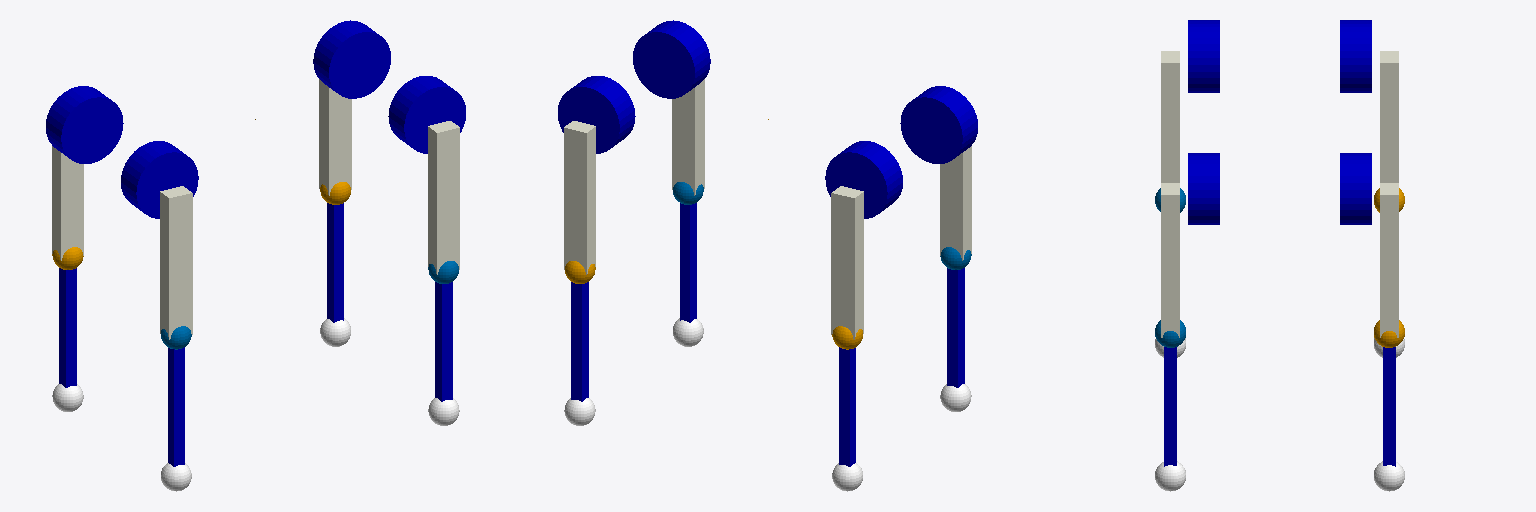
--- Render facts (derived) ---
3 views of the same robot in one strip: view 1: azimuth 30°, elevation 25°; view 2: azimuth 150°, elevation 25°; view 3: azimuth 270°, elevation 25° (orthographic).
Model wr2 with 19 links and 18 joints (12 revolute, 6 fixed), rooted at base, posed every joint at zero.
Links seen in each view (by area): view 1: RR_thigh, FR_thigh, FL_hip, RL_hip, FR_hip, RR_hip, FL_thigh, RL_thigh, RL_calf, FR_calf, FL_calf, RR_calf (+4 smaller); view 2: RL_thigh, FL_thigh, FR_hip, RR_hip, FL_hip, RL_hip, FR_thigh, RR_thigh, RR_calf, FL_calf, FR_calf, RL_calf (+4 smaller); view 3: FR_thigh, FL_thigh, RR_thigh, RL_thigh, RR_hip, RL_hip, FR_hip, FL_hip, FR_calf, FL_calf, FR_foot, FL_foot.
Boxes of the visible links, left/top/right/bottom form: RR_thigh: left=160, top=186, right=192, bottom=349; FR_thigh: left=428, top=121, right=459, bottom=283; FL_hip: left=313, top=20, right=390, bottom=98; RL_hip: left=46, top=86, right=123, bottom=163; FR_hip: left=388, top=76, right=465, bottom=153; RR_hip: left=121, top=141, right=198, bottom=218; FL_thigh: left=319, top=79, right=351, bottom=204; RL_thigh: left=52, top=146, right=83, bottom=269; RL_calf: left=59, top=268, right=76, bottom=387; FR_calf: left=435, top=282, right=452, bottom=401; FL_calf: left=327, top=203, right=343, bottom=322; RR_calf: left=168, top=347, right=184, bottom=466; RL_thigh: left=831, top=186, right=863, bottom=349; FL_thigh: left=564, top=121, right=595, bottom=283; FR_hip: left=633, top=20, right=710, bottom=98; RR_hip: left=900, top=86, right=977, bottom=163; FL_hip: left=558, top=76, right=635, bottom=153; RL_hip: left=825, top=141, right=902, bottom=218; FR_thigh: left=672, top=79, right=704, bottom=204; RR_thigh: left=940, top=146, right=971, bottom=269; RR_calf: left=947, top=268, right=964, bottom=387; FL_calf: left=571, top=282, right=588, bottom=401; FR_calf: left=680, top=203, right=696, bottom=322; RL_calf: left=839, top=347, right=855, bottom=466; FR_thigh: left=1155, top=183, right=1185, bottom=347; FL_thigh: left=1374, top=183, right=1404, bottom=347; RR_thigh: left=1155, top=51, right=1185, bottom=212; RL_thigh: left=1374, top=51, right=1404, bottom=212; RR_hip: left=1188, top=20, right=1219, bottom=92; RL_hip: left=1340, top=20, right=1371, bottom=92; FR_hip: left=1188, top=153, right=1219, bottom=224; FL_hip: left=1340, top=153, right=1371, bottom=224; FR_calf: left=1164, top=347, right=1176, bottom=466; FL_calf: left=1383, top=347, right=1395, bottom=466; FR_foot: left=1155, top=461, right=1185, bottom=491; FL_foot: left=1374, top=461, right=1404, bottom=491.
Bounding box of the posed robot: 0.487 × 0.3164 × 0.466 m (x, y, z).
0 mesh visuals loaded from 1 distinct referenced files (none loaded); not drawn: 1 (reference not matched to a file when rendering).

URDF robot description (wr2):
<?xml version="1.0" encoding="utf-8"?>
<!-- =================================================================================== -->
<!-- |    This document was autogenerated by xacro from xacro/robot.xacro              | -->
<!-- |    EDITING THIS FILE BY HAND IS NOT RECOMMENDED                                 | -->
<!-- =================================================================================== -->
<robot name="wr2">
  <material name="black">
    <color rgba="0.0 0.0 0.0 1.0"/>
  </material>
  <material name="blue">
    <color rgba="0.0 0.0 0.8 1.0"/>
  </material>
  <material name="green">
    <color rgba="0.0 0.8 0.0 1.0"/>
  </material>
  <material name="grey">
    <color rgba="0.2 0.2 0.2 1.0"/>
  </material>
  <material name="silver">
    <color rgba="0.913725490196 0.913725490196 0.847058823529 1.0"/>
  </material>
  <material name="orange">
    <color rgba="1.0 0.423529411765 0.0392156862745 1.0"/>
  </material>
  <material name="brown">
    <color rgba="0.870588235294 0.811764705882 0.764705882353 1.0"/>
  </material>
  <material name="red">
    <color rgba="0.8 0.0 0.0 1.0"/>
  </material>
  <material name="white">
    <color rgba="1.0 1.0 1.0 1.0"/>
  </material>
 
  <link name="base">
    <visual>
      <origin rpy="0 0 0" xyz="0 0 0"/>
      <geometry>
        <box size="0.001 0.001 0.001"/>
      </geometry>
    </visual>
  </link>
  <joint name="floating_base" type="fixed">
    <origin rpy="0 0 0" xyz="0 0 0"/>
    <parent link="base"/>
    <child link="trunk"/>
  </joint>
  <link name="trunk">
    <visual name="body_visual">
      <origin rpy="0 0 0" xyz="0 0 0"/>
      <geometry>
        <mesh filename="meshes_wr/base_link.STL" scale="1 1 1"/>
        <box size="0.28 0.202 0.114"/>
      </geometry>
      <material name="silver"/>
    </visual>
    <collision name="body_collision">
      <origin rpy="0 0 0" xyz="0 0 0"/>
      <geometry>
        <mesh filename="meshes_wr/base_link.STL" scale="1 1 1"/>
        <box size="0.28 0.202 0.114"/>
      </geometry>
    </collision>
    <inertial>
      <origin rpy="0 0 0" xyz="0.00067578 -0.00016652 -0.00017278"/>
      <mass value="4.9532"/>
      <inertia ixx="0.0097737" ixy="1.6081e-06" ixz="6.1042e-06" iyy="0.011213" iyz="2.3576e-05" izz="0.016784"/>
    </inertial>
  </link>
 
  <!-- <link name="base">
    <visual>
      <origin rpy="0 0 0" xyz="0 0 0"/>
      <geometry>
        <box size="0.001 0.001 0.001"/>
      </geometry>
    </visual>
    <inertial>
      <origin rpy="0 0 0" xyz="0.00067578 -0.00016652 -0.00017278"/>
      <mass value="4.9532"/>
      <inertia ixx="0.0097737" ixy="1.6081e-06" ixz="6.1042e-06" iyy="0.011213" iyz="2.3576e-05" izz="0.016784"/>
    </inertial>
  </link>
  <joint name="floating_base" type="fixed">
    <origin rpy="0 0 0" xyz="0 0 0"/>
    <parent link="base"/>
    <child link="trunk"/>
  </joint>
  <link name="trunk">
    <visual name="body_visual">
      <origin rpy="0 0 0" xyz="0 0 0"/>
      <geometry>
        <mesh filename="meshes_wr/base_link.STL" scale="1 1 1"/>
      </geometry>
      <material name="silver"/>
      <origin rpy="0 0 0" xyz="0 0 0"/>
      <geometry>
        <box size="0.28 0.202 0.114"/>
      </geometry>
    </visual>
    <collision name="body_collision">
      <origin rpy="0 0 0" xyz="0 0 0"/>
      <geometry>
        <box size="0.28 0.202 0.114"/>
      </geometry>
    </collision>
  </link> -->
  <joint name="imu_joint" type="fixed">
    <parent link="trunk"/>
    <child link="imu_link"/>
    <origin rpy="0 0 0" xyz="0 0 0"/>
  </joint>
  <link name="imu_link">
    <inertial>
      <mass value="0.001"/>
      <origin rpy="0 0 0" xyz="0 0 0"/>
      <inertia ixx="0.0001" ixy="0" ixz="0" iyy="0.0001" iyz="0" izz="0.0001"/>
    </inertial>
    <visual>
      <origin rpy="0 0 0" xyz="0 0 0"/>
      <geometry>
        <box size="0.001 0.001 0.001"/>
      </geometry>
      <material name="red"/>
    </visual>
    <collision>
      <origin rpy="0 0 0" xyz="0 0 0"/>
      <geometry>
        <box size=".001 .001 .001"/>
      </geometry>
    </collision>
  </link>

  <joint name="FR_hip_joint" type="revolute">
    <origin rpy="0 0 0" xyz="0.1975 -0.05 0"/>
    <parent link="trunk"/>
    <child link="FR_hip"/>
    <axis xyz="1 0 0"/>
    <dynamics damping="0" friction="0"/>
    <limit effort="33.5" lower="-0.785398163397" upper="0.785398163397" velocity="21"/>
  </joint>
  <!-- <link name="FR_hip">
      <inertial>
          <mass value="0.54"/>
          <origin xyz="0.0 0.036 0."/>
          <inertia ixx="0.000381" ixy="0.000058" ixz="0.00000045" 
              iyy="0.000560" iyz="0.00000095" izz="0.000444"/>
      </inertial>
      <visual>
          <geometry>
              <mesh filename="meshes_wr/mini_abad.obj"/>
          </geometry>
          <origin rpy="3.141592 0.0 1.5708" xyz="-0.055 0.0 0.0"/>
      </visual>
      <collision>
          <geometry>
              <mesh filename="meshes_wr/mini_abad.obj"/>
          </geometry>
          <origin rpy="3.141592 0 1.5708" xyz="-0.055 0 0"/>
      </collision>
  </link> -->

  <!-- <link name="FR_hip">
    <visual>
      <origin rpy="1.57079632679 0 0" xyz="0 -0.045 0"/>
      <geometry>
        <cylinder length="0.04" radius="0.046"/>
      </geometry>
      <material name="silver"/>
    </visual>
    <collision>
      <origin rpy="1.57079632679 0 0" xyz="0 -0.045 0"/>
      <geometry>
        <cylinder length="0.04" radius="0.046"/>
      </geometry>
    </collision>
    <inertial>
      <origin rpy="0 0 0" xyz="-0.00541 0.00074 6e-06"/>
      <mass value="0.510299"/>
      <inertia ixx="0.00030528937" ixy="7.788013e-06" ixz="2.2016e-07" iyy="0.000590894859" iyz="1.7175e-08" izz="0.000396594572"/>
    </inertial>
  </link> -->

  <link name="FR_hip">
    <visual name="hip2_visual">
      <origin rpy="3.14159265359 0 0" xyz="0 0 0"/>
      <geometry>
        <mesh filename="meshes_wr/hip1_Link.STL" scale="1 1 1"/>
      </geometry>
      <origin rpy="1.57079632679 0 0" xyz="0 -0.046 0"/>
      <geometry>
        <cylinder length="0.04" radius="0.046"/>
      </geometry>
      <material name="blue"/>
    </visual>
    <collision name="hip2_collision">
      <origin rpy="1.57079632679 0 0" xyz="0 -0.046 0"/>
      <geometry>
        <cylinder length="0.04" radius="0.046"/>
      </geometry>
    </collision>
    <inertial>
      <mass value="0.54"/>
      <origin xyz="0.0 0.036 0."/>
      <inertia ixx="0.000381" ixy="0.000058" ixz="0.00000045" 
          iyy="0.000560" iyz="0.00000095" izz="0.000444"/>
      <origin rpy="0 0 0" xyz="-0.0032616 -0.0049715 0.00038471"/>
      <mass value="0.74362"/>
      <inertia ixx="0.00045939" ixy="1.5543e-05" ixz="6.1403e-07" iyy="0.00075207" iyz="-8.2076e-07" izz="0.00049182"/>
    </inertial>
  </link>
  <joint name="FR_thigh_joint" type="revolute">
    <origin rpy="0 0 0" xyz="0 -0.0882 0"/>
    <parent link="FR_hip"/>
    <child link="FR_thigh"/>
    <axis xyz="0 1 0"/>
    <dynamics damping="0" friction="0"/>
    <limit effort="33.5" lower="-6.28318530718" upper="6.28318530718" velocity="21"/>
  </joint>
  <link name="FR_thigh">
    <visual name="upper2_visual">
      <origin rpy="0 0 0" xyz="0 0 0"/>
      <geometry>
        <mesh filename="meshes_wr/upper0_Link.STL" scale="1 1 1"/>
      </geometry>
      <origin rpy="0 1.57079632679 0" xyz="0 0 -0.1"/>
      <geometry>
        <box size="0.2 0.0245 0.034"/>
      </geometry>
      <material name="silver"/>
    </visual>
    <collision name="upper2_collision">
      <origin rpy="0 1.57079632679 0" xyz="0 0 -0.1"/>
      <geometry>
        <box size="0.2 0.0245 0.034"/>
      </geometry>
    </collision>
    <visual>
        <origin xyz="0 0 -0.2"/>
        <geometry>
            <sphere radius="0.02"/>
        </geometry>
    </visual>
    <collision>
        <origin xyz="0 0 -0.2"/>
        <geometry>
            <sphere radius="0.02"/>
        </geometry>
    </collision>
    <inertial>
      <origin rpy="0 0 0" xyz="-0.0029302 0.022321 -0.020612"/>
      <mass value="0.88958"/>
      <inertia ixx="0.0016427" ixy="-1.0138e-06" ixz="-8.5809e-05" iyy="0.0019549" iyz="-1.1651e-06" izz="0.00049228"/>
    </inertial>
  </link>
  <joint name="FR_calf_joint" type="revolute">
    <origin rpy="0 0 0" xyz="0 0 -0.2"/>
    <parent link="FR_thigh"/>
    <child link="FR_calf"/>
    <axis xyz="0 1 0"/>
    <dynamics damping="0" friction="0"/>
    <limit effort="33.5" lower="-6.28318530718" upper="6.28318530718" velocity="21"/>
  </joint>
  <link name="FR_calf">
    <visual name="lower2_visual">
      <origin rpy="0 0 0" xyz="0 0 0"/>
      <geometry>
        <mesh filename="meshes_wr/lower1_Link.STL" scale="1 1 1"/>
      </geometry>
      <origin rpy="0 1.57079632679 0" xyz="0 0 -0.1"/>
      <geometry>
        <box size="0.2 0.016 0.016"/>
      </geometry>
      <material name="blue"/>
    </visual>
    <collision name="lower2_collision">
      <origin rpy="0 1.57079632679 0" xyz="0 0 -0.1"/>
      <geometry>
        <box size="0.2 0.016 0.016"/>
      </geometry>
    </collision>
    <!-- <visual>
        <origin xyz="0 0 -0.2"/>
        <geometry>
            <sphere radius="0.02"/>
        </geometry>
    </visual>
    <collision>
        <origin xyz="0 0 -0.2"/>
        <geometry>
            <sphere radius="0.02"/>
        </geometry>
    </collision> -->
    <inertial>
      <origin rpy="0 0 0" xyz="0.0065828 -3.477e-05 -0.059038"/>
      <mass value="0.1193"/>
      <inertia ixx="0.00033774" ixy="-1.6102e-10" ixz="4.2063e-05" iyy="0.00034623" iyz="-3.8747e-09" izz="1.4561e-05"/>
    </inertial>
  </link>

  <joint name="FR_foot_fixed" type="fixed" dont_collapse="true">
    <origin rpy="0 0 0" xyz="0 0 -0.2"/>
    <parent link="FR_calf"/>
    <child link="FR_foot"/>
  </joint>
  <link name="FR_foot">
    <visual>
      <origin rpy="0 0 0" xyz="0 0 0"/>
      <geometry>
        <sphere radius="0.02"/>
      </geometry>
      <material name="white"/>
    </visual>
    <collision>
      <origin rpy="0 0 0" xyz="0 0 0"/>
      <geometry>
        <sphere radius="0.02"/>
      </geometry>
    </collision>
    <inertial>
      <mass value="0.06"/>
      <inertia ixx="9.6e-06" ixy="0.0" ixz="0.0" iyy="9.6e-06" iyz="0.0" izz="9.6e-06"/>
    </inertial>
  </link>


  <joint name="FL_hip_joint" type="revolute">
    <origin rpy="0 0 0" xyz="0.1975 0.05 0"/>
    <parent link="trunk"/>
    <child link="FL_hip"/>
    <axis xyz="1 0 0"/>
    <dynamics damping="0" friction="0"/>
    <limit effort="33.5" lower="-0.785398163397" upper="0.785398163397" velocity="21"/>
  </joint>
  <!-- <link name="FL_hip">
      <inertial>
          <mass value="0.54"/>
          <origin xyz="0.0 0.036 0."/>
          <inertia ixx="0.000381" ixy="0.000058" ixz="0.00000045" 
              iyy="0.000560" iyz="0.00000095" izz="0.000444"/>
      </inertial>
      <visual>
          <geometry>
              <mesh filename="meshes_wr/mini_abad.obj"/>
          </geometry>
          <origin rpy="0. 0. -1.5708" xyz="-0.055 0.0 0.0"/>
      </visual>
      <collision>
          <geometry>
              <mesh filename="meshes_wr/mini_abad.obj"/>
          </geometry>
          <origin rpy="0 0 -1.5708" xyz="-0.055 0 0"/>
      </collision>
  </link> -->
  <link name="FL_hip">
    <visual name="hip0_visual">
      <origin rpy="0 0 0" xyz="0 0 0"/>
      <geometry>
        <mesh filename="meshes_wr/hip1_Link.STL" scale="1 1 1"/>
      </geometry>
      <origin rpy="1.57079632679 0 0" xyz="0 0.046 0"/>
      <geometry>
        <cylinder length="0.04" radius="0.046"/>
      </geometry>
      <material name="blue"/>
    </visual>
    <collision name="hip0_collision">
      <origin rpy="1.57079632679 0 0" xyz="0 0.046 0"/>
      <geometry>
        <cylinder length="0.04" radius="0.046"/>
      </geometry>
    </collision>
    <inertial>
      <origin rpy="0 0 0" xyz="-0.0032616 0.0049715 0.00038471"/>
      <mass value="0.74362"/>
      <inertia ixx="0.00045939" ixy="-1.5543e-05" ixz="6.1403e-07" iyy="0.00075207" iyz="8.2076e-07" izz="0.00049182"/>
    </inertial>
  </link>

  <!-- <link name="FL_hip">
    <visual>
      <origin rpy="1.57079632679 0 0" xyz="0 0.045 0"/>
      <geometry>
        <cylinder length="0.04" radius="0.046"/>
      </geometry>
      <material name="silver"/>
    </visual>
    <collision>
      <origin rpy="1.57079632679 0 0" xyz="0 0.046 0"/>
      <geometry>
        <cylinder length="0.04" radius="0.046"/>
      </geometry>
    </collision>
    <inertial>
      <origin rpy="0 0 0" xyz="-0.00541 -0.00074 6e-06"/>
      <mass value="0.510299"/>
      <inertia ixx="0.00030528937" ixy="-7.788013e-06" ixz="2.2016e-07" iyy="0.000590894859" iyz="-1.7175e-08" izz="0.000396594572"/>
    </inertial>
  </link> -->

  <joint name="FL_thigh_joint" type="revolute">
    <origin rpy="0 0 0" xyz="0 0.0882 0"/>
    <parent link="FL_hip"/>
    <child link="FL_thigh"/>
    <axis xyz="0 1 0"/>
    <dynamics damping="0" friction="0"/>
    <limit effort="33.5" lower="-6.28318530718" upper="6.28318530718" velocity="21"/>
  </joint>
  <link name="FL_thigh">
    <visual name="upper0_visual">
      <origin rpy="0 0 0" xyz="0 0 0"/>
      <geometry>
        <mesh filename="meshes_wr/upper1_Link.STL" scale="1 1 1"/>
      </geometry>
      <origin rpy="0 1.57079632679 0" xyz="0 0 -0.1"/>
      <geometry>
        <box size="0.2 0.0245 0.034"/>
      </geometry>
      <material name="silver"/>
    </visual>
    <collision name="upper0_collision">
      <origin rpy="0 1.57079632679 0" xyz="0 0 -0.1"/>
      <geometry>
        <box size="0.2 0.0245 0.034"/>
      </geometry>
    </collision>
    <visual>
        <origin xyz="0 0 -0.2"/>
        <geometry>
            <sphere radius="0.02"/>
        </geometry>
    </visual>
    <collision>
        <origin xyz="0 0 -0.2"/>
        <geometry>
            <sphere radius="0.02"/>
        </geometry>
    </collision>
    <inertial>
      <origin rpy="0 0 0" xyz="-0.0029302 -0.022321 -0.020612"/>
      <mass value="0.88958"/>
      <inertia ixx="0.0016427" ixy="1.0138e-06" ixz="-8.5809e-05" iyy="0.0019549" iyz="1.1651e-06" izz="0.00049228"/>
    </inertial>
  </link>
  <joint name="FL_calf_joint" type="revolute">
    <origin rpy="0 0 0" xyz="0 0 -0.2"/>
    <parent link="FL_thigh"/>
    <child link="FL_calf"/>
    <axis xyz="0 1 0"/>
    <dynamics damping="0" friction="0"/>
    <limit effort="33.5" lower="-6.28318530718" upper="6.28318530718" velocity="21"/>
  </joint>
  <link name="FL_calf">
    <visual name="lower0_visual">
      <origin rpy="0 0 0" xyz="0 0 0"/>
      <geometry>
        <mesh filename="meshes_wr/lower1_Link.STL" scale="1 1 1"/>
      </geometry>
      <origin rpy="0 1.57079632679 0" xyz="0 0 -0.1"/>
      <geometry>
        <box size="0.2 0.016 0.016"/>
      </geometry>
      <material name="blue"/>
    </visual>
    <collision name="lower0_collision">
      <origin rpy="0 1.57079632679 0" xyz="0 0 -0.1"/>
      <geometry>
        <box size="0.2 0.016 0.016"/>
      </geometry>
    </collision>
    <!-- <visual>
        <origin xyz="0 0 -0.2"/>
        <geometry>
            <sphere radius="0.02"/>
        </geometry>
    </visual>
    <collision>
        <origin xyz="0 0 -0.2"/>
        <geometry>
            <sphere radius="0.02"/>
        </geometry>
    </collision> -->
    <inertial>
      <origin rpy="0 0 0" xyz="0.0065828 -3.477e-05 -0.059038"/>
      <mass value="0.1193"/>
      <inertia ixx="0.00033774" ixy="-1.6102e-10" ixz="4.2063e-05" iyy="0.00034623" iyz="-3.8747e-09" izz="1.4561e-05"/>
    </inertial>
  </link>
  <joint name="FL_foot_fixed" type="fixed" dont_collapse="true">
    <origin rpy="0 0 0" xyz="0 0 -0.2"/>
    <parent link="FL_calf"/>
    <child link="FL_foot"/>
  </joint>
  <link name="FL_foot">
    <visual>
      <origin rpy="0 0 0" xyz="0 0 0"/>
      <geometry>
        <sphere radius="0.02"/>
      </geometry>
      <material name="white"/>
    </visual>
    <collision>
      <origin rpy="0 0 0" xyz="0 0 0"/>
      <geometry>
        <sphere radius="0.02"/>
      </geometry>
    </collision>
    <inertial>
      <mass value="0.06"/>
      <inertia ixx="9.6e-06" ixy="0.0" ixz="0.0" iyy="9.6e-06" iyz="0.0" izz="9.6e-06"/>
    </inertial>
  </link>

  
  <joint name="RR_hip_joint" type="revolute">
    <origin rpy="0 0 0" xyz="-0.1975 -0.05 0"/>
    <parent link="trunk"/>
    <child link="RR_hip"/>
    <axis xyz="1 0 0"/>
    <dynamics damping="0.5" friction="0"/>
    <limit effort="33.5" lower="-0.785398163397" upper="0.785398163397" velocity="21"/>
    <!-- <limit effort="18" lower="-1.6" upper="1.6" velocity="40"/> -->
  </joint>
  <!-- <link name="RR_hip">
      <inertial>
          <mass value="0.54"/>
          <origin xyz="0.0 0.036 0."/>
          <inertia ixx="0.000381" ixy="0.000058" ixz="0.00000045" 
              iyy="0.000560" iyz="0.00000095" izz="0.000444"/>
      </inertial>
      <visual>
          <geometry>
              <mesh filename="meshes_wr/mini_abad.obj"/>
          </geometry>
          <origin rpy="0.0 0.0 1.5708" xyz="0.055 0.0 0.0"/>
      </visual>
      <collision>
          <geometry>
              <mesh filename="meshes_wr/mini_abad.obj"/>
          </geometry>
          <origin rpy="0 0 1.5708" xyz="0.055 0 0"/>
      </collision>
  </link> -->
  <link name="RR_hip">
    <visual name="hip3_visual">
      <origin rpy="3.14159265359 3.14159265359 0" xyz="0 0 0"/>
      <geometry>
        <mesh filename="meshes_wr/hip1_Link.STL" scale="1 1 1"/>
      </geometry>
      <origin rpy="1.57079632679 0 0" xyz="0 -0.046 0"/>
      <geometry>
        <cylinder length="0.04" radius="0.046"/>
      </geometry>
      <material name="blue"/>
    </visual>
    <collision name="hip3_collision">
      <origin rpy="1.57079632679 0 0" xyz="0 -0.046 0"/>
      <geometry>
        <cylinder length="0.04" radius="0.046"/>
      </geometry>
    </collision>
    <inertial>
      <origin rpy="0 0 0" xyz="0.0032616 -0.0049715 0.00038471"/>
      <mass value="0.74362"/>
      <inertia ixx="0.00045939" ixy="-1.5543e-05" ixz="-6.1403e-07" iyy="0.00075207" iyz="-8.2076e-07" izz="0.00049182"/>
    </inertial>
  </link>

  <!-- <link name="RR_hip">
    <visual>
      <origin rpy="1.57079632679 0 0" xyz="0 -0.045 0"/>
      <geometry>
        <cylinder length="0.04" radius="0.046"/>
      </geometry>
      <material name="silver"/>
    </visual>
    <collision>
      <origin rpy="1.57079632679 0 0" xyz="0 -0.045 0"/>
      <geometry>
        <cylinder length="0.04" radius="0.046"/>
      </geometry>
    </collision>
    <inertial>
      <origin rpy="0 0 0" xyz="0.00541 0.00074 6e-06"/>
      <mass value="0.510299"/>
      <inertia ixx="0.00030528937" ixy="-7.788013e-06" ixz="-2.2016e-07" iyy="0.000590894859" iyz="1.7175e-08" izz="0.000396594572"/>
    </inertial>
  </link> -->

  <joint name="RR_thigh_joint" type="revolute">
    <origin rpy="0 0 0" xyz="0 -0.0882 0"/>
    <parent link="RR_hip"/>
    <child link="RR_thigh"/>
    <axis xyz="0 1 0"/>
    <dynamics damping="0" friction="0"/>
    <limit effort="33.5" lower="-6.28318530718" upper="6.28318530718" velocity="21"/>
  </joint>
  <link name="RR_thigh">
    <visual name="upper3_visual">
      <origin rpy="0 0 0" xyz="0 0 0"/>
      <geometry>
        <mesh filename="meshes_wr/upper0_Link.STL" scale="1 1 1"/>
      </geometry>
      <origin rpy="0 1.57079632679 0" xyz="0 0 -0.1"/>
      <geometry>
        <box size="0.2 0.0245 0.034"/>
      </geometry>
      <material name="silver"/>
    </visual>
    <collision name="upper3_collision">
      <origin rpy="0 1.57079632679 0" xyz="0 0 -0.1"/>
      <geometry>
        <box size="0.2 0.0245 0.034"/>
      </geometry>
    </collision>
    <visual>
        <origin xyz="0 0 -0.2"/>
        <geometry>
            <sphere radius="0.02"/>
        </geometry>
    </visual>
    <collision>
        <origin xyz="0 0 -0.2"/>
        <geometry>
            <sphere radius="0.02"/>
        </geometry>
    </collision>
    <inertial>
      <origin rpy="0 0 0" xyz="-0.0029302 0.022321 -0.020612"/>
      <mass value="0.88958"/>
      <inertia ixx="0.0016427" ixy="-1.0138e-06" ixz="-8.5809e-05" iyy="0.0019549" iyz="-1.1651e-06" izz="0.00049228"/>
    </inertial>
  </link>
  <joint name="RR_calf_joint" type="revolute">
    <origin rpy="0 0 0" xyz="0 0 -0.2"/>
    <parent link="RR_thigh"/>
    <child link="RR_calf"/>
    <axis xyz="0 1 0"/>
    <dynamics damping="0" friction="0"/>
    <limit effort="33.5" lower="-6.28318530718" upper="6.28318530718" velocity="21"/>
  </joint>
  <link name="RR_calf">
    <visual name="lower3_visual">
      <origin rpy="0 0 0" xyz="0 0 0"/>
      <geometry>
        <mesh filename="meshes_wr/lower1_Link.STL" scale="1 1 1"/>
      </geometry>
      <origin rpy="0 1.57079632679 0" xyz="0 0 -0.1"/>
      <geometry>
        <box size="0.2 0.016 0.016"/>
      </geometry>
      
      <material name="blue"/>
    </visual>
    <!-- <visual>
      <origin xyz="0 0 -0.2"/>
      <geometry>
          <sphere radius="0.02"/>
      </geometry>
    </visual> -->
    <collision name="lower3_collision">
      <origin rpy="0 1.57079632679 0" xyz="0 0 -0.1"/>
      <geometry>
        <box size="0.2 0.016 0.016"/>
      </geometry>
    </collision>
    <!-- <collision>
        <origin xyz="0 0 -0.2"/>
        <geometry>
            <sphere radius="0.02"/>
        </geometry>
    </collision> -->
    <inertial>
      <origin rpy="0 0 0" xyz="0.0065828 -3.477e-05 -0.059038"/>
      <mass value="0.1193"/>
      <inertia ixx="0.00033774" ixy="-1.6102e-10" ixz="4.2063e-05" iyy="0.00034623" iyz="-3.8747e-09" izz="1.4561e-05"/>
    </inertial>
  </link>
  <joint name="RR_foot_fixed" type="fixed" dont_collapse="true">
    <origin rpy="0 0 0" xyz="0 0 -0.2"/>
    <parent link="RR_calf"/>
    <child link="RR_foot"/>
  </joint>
  <link name="RR_foot">
    <visual>
      <origin rpy="0 0 0" xyz="0 0 0"/>
      <geometry>
        <sphere radius="0.02"/>
      </geometry>
      <material name="white"/>
    </visual>
    <collision>
      <origin rpy="0 0 0" xyz="0 0 0"/>
      <geometry>
        <sphere radius="0.02"/>
      </geometry>
    </collision>
    <inertial>
      <mass value="0.06"/>
      <inertia ixx="9.6e-06" ixy="0.0" ixz="0.0" iyy="9.6e-06" iyz="0.0" izz="9.6e-06"/>
    </inertial>
  </link>

  <joint name="RL_hip_joint" type="revolute">
    <origin rpy="0 0 0" xyz="-0.1975 0.05 0"/>
    <parent link="trunk"/>
    <child link="RL_hip"/>
    <axis xyz="1 0 0"/>
    <dynamics damping="0" friction="0"/>
    <limit effort="33.5" lower="-0.785398163397" upper="0.785398163397" velocity="21"/>
  </joint>
  <!-- <link name="RL_hip">
      <inertial>
          <mass value="0.54"/>
          <origin xyz="0.0 0.036 0."/>
          <inertia ixx="0.000381" ixy="0.000058" ixz="0.00000045" 
              iyy="0.000560" iyz="0.00000095" izz="0.000444"/>
      </inertial>
      <visual>
          <geometry>
              <mesh filename="meshes_wr/mini_abad.obj"/>
          </geometry>
          <origin rpy="3.141592 0.0 -1.5708" xyz="0.055 0.0 0.0"/>
      </visual>
      <collision>
          <geometry>
              <mesh filename="meshes_wr/mini_abad.obj"/>
          </geometry>
          <origin rpy="3.141592 0 -1.5708" xyz="0.055 0 0"/>
      </collision>
  </link> -->
  <link name="RL_hip">
    <visual name="hip1_visual">
      <origin rpy="0 3.14159265359 0" xyz="0 0 0"/>
      <geometry>
        <mesh filename="meshes_wr/hip1_Link.STL" scale="1 1 1"/>
      </geometry>
      <origin rpy="1.57079632679 0 0" xyz="0 0.046 0"/>
      <geometry>
        <cylinder length="0.04" radius="0.046"/>
      </geometry>
      <material name="blue"/>
    </visual>
    <collision name="hip1_collision">
      <origin rpy="1.57079632679 0 0" xyz="0 0.046 0"/>
      <geometry>
        <cylinder length="0.04" radius="0.046"/>
      </geometry>
    </collision>
    <inertial>
      <origin rpy="0 0 0" xyz="0.0032616 0.0049715 0.00038471"/>
      <mass value="0.74362"/>
      <inertia ixx="0.00045939" ixy="1.5543e-05" ixz="-6.1403e-07" iyy="0.00075207" iyz="8.2076e-07" izz="0.00049182"/>
    </inertial>
  </link>

  <!-- <link name="RL_hip">
    <visual>
      <origin rpy="1.57079632679 0 0" xyz="0 0.045 0"/>
      <geometry>
        <cylinder length="0.04" radius="0.046"/>
      </geometry>
      <material name="silver"/>
    </visual>
    <collision>
      <origin rpy="1.57079632679 0 0" xyz="0 0.045 0"/>
      <geometry>
        <cylinder length="0.04" radius="0.046"/>
      </geometry>
    </collision>
    <inertial>
      <origin rpy="0 0 0" xyz="0.00541 -0.00074 6e-06"/>
      <mass value="0.510299"/>
      <inertia ixx="0.00030528937" ixy="7.788013e-06" ixz="-2.2016e-07" iyy="0.000590894859" iyz="-1.7175e-08" izz="0.000396594572"/>
    </inertial>
  </link> -->


  <joint name="RL_thigh_joint" type="revolute">
    <origin rpy="0 0 0" xyz="0 0.0882 0"/>
    <parent link="RL_hip"/>
    <child link="RL_thigh"/>
    <axis xyz="0 1 0"/>
    <dynamics damping="0" friction="0"/>
    <limit effort="33.5" lower="-6.28318530718" upper="6.28318530718" velocity="21"/>
  </joint>
  <link name="RL_thigh">
    <visual name="upper1_visual">
      <origin rpy="0 0 0" xyz="0 0 0"/>
      <geometry>
        <mesh filename="meshes_wr/upper1_Link.STL" scale="1 1 1"/>
      </geometry>
      <origin rpy="0 1.57079632679 0" xyz="0 0 -0.1"/>
      <geometry>
        <box size="0.2 0.0245 0.034"/>
      </geometry>
      <material name="silver"/>
    </visual>
    <collision name="upper1_collision">
      <origin rpy="0 1.57079632679 0" xyz="0 0 -0.1"/>
      <geometry>
        <box size="0.2 0.0245 0.034"/>
      </geometry>
    </collision>
    <visual>
        <origin xyz="0 0 -0.2"/>
        <geometry>
            <sphere radius="0.02"/>
        </geometry>
    </visual>
    <collision>
        <origin xyz="0 0 -0.2"/>
        <geometry>
            <sphere radius="0.02"/>
        </geometry>
    </collision>
    <inertial>
      <origin rpy="0 0 0" xyz="-0.0029302 -0.022321 -0.020612"/>
      <mass value="0.88958"/>
      <inertia ixx="0.0016427" ixy="1.0138e-06" ixz="-8.5809e-05" iyy="0.0019549" iyz="1.1651e-06" izz="0.00049228"/>
    </inertial>
  </link>
  <joint name="RL_calf_joint" type="revolute">
    <origin rpy="0 0 0" xyz="0 0 -0.2"/>
    <parent link="RL_thigh"/>
    <child link="RL_calf"/>
    <axis xyz="0 1 0"/>
    <dynamics damping="0" friction="0"/>
    <limit effort="33.5" lower="-6.28318530718" upper="6.28318530718" velocity="21"/>
  </joint>
  <link name="RL_calf">
    <visual name="lower1_visual">
      <origin rpy="0 0 0" xyz="0 0 0"/>
      <geometry>
        <mesh filename="meshes_wr/lower1_Link.STL" scale="1 1 1"/>
      </geometry>
      <origin rpy="0 1.57079632679 0" xyz="0 0 -0.1"/>
      <geometry>
        <box size="0.2 0.016 0.016"/>
      </geometry>
      <material name="blue"/>
    </visual>
    <!-- <visual>
        <origin xyz="0 0 -0.2"/>
        <geometry>
            <sphere radius="0.02"/>
        </geometry>
    </visual> -->
    <collision name="lower1_collision">
      <origin rpy="0 1.57079632679 0" xyz="0 0 -0.1"/>
      <geometry>
        <box size="0.2 0.016 0.016"/>
      </geometry>
    </collision>
    <!-- <collision>
        <origin xyz="0 0 -0.2"/>
        <geometry>
            <sphere radius="0.02"/>
        </geometry>
    </collision> -->
    <inertial>
      <origin rpy="0 0 0" xyz="0.0065828 -3.477e-05 -0.059038"/>
      <mass value="0.1193"/>
      <inertia ixx="0.00033774" ixy="-1.6102e-10" ixz="4.2063e-05" iyy="0.00034623" iyz="-3.8747e-09" izz="1.4561e-05"/>
    </inertial>
  </link>
  <joint name="RL_foot_fixed" type="fixed" dont_collapse="true">
    <origin rpy="0 0 0" xyz="0 0 -0.2"/>
    <parent link="RL_calf"/>
    <child link="RL_foot"/>
  </joint>
  <link name="RL_foot">
    <visual>
      <origin rpy="0 0 0" xyz="0 0 0"/>
      <geometry>
        <sphere radius="0.02"/>
      </geometry>
      <material name="white"/>
    </visual>
    <collision>
      <origin rpy="0 0 0" xyz="0 0 0"/>
      <geometry>
        <sphere radius="0.02"/>
      </geometry>
    </collision>
    <inertial>
      <mass value="0.06"/>
      <inertia ixx="9.6e-06" ixy="0.0" ixz="0.0" iyy="9.6e-06" iyz="0.0" izz="9.6e-06"/>
    </inertial>
  </link>
  
</robot>
